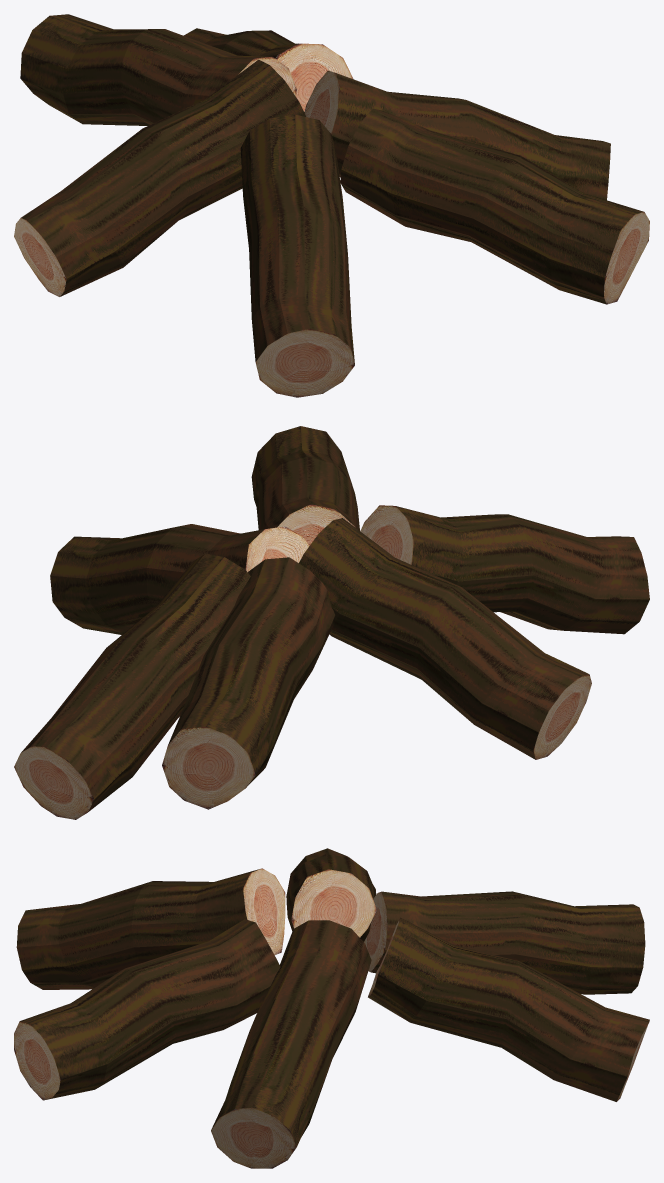
The model's file is wood.fbx.
The picture shows the model from 3 angles, top to bottom: view 1: azimuth 30°, elevation 25°; view 2: azimuth 150°, elevation 25°; view 3: azimuth 270°, elevation 25°; orthographic projection. The views are drawn at different scales.
Parts seen in each view (by area): view 1: woood.04; view 2: woood.04; view 3: woood.04.
Boxes of the visible parts, bbox=[...] form: woood.04: bbox=[14, 14, 649, 397]; woood.04: bbox=[14, 426, 649, 819]; woood.04: bbox=[14, 848, 649, 1168].
Bounding box in the file's own units: 285 × 101 × 320.
Materials: 1 (1 with a texture image).
